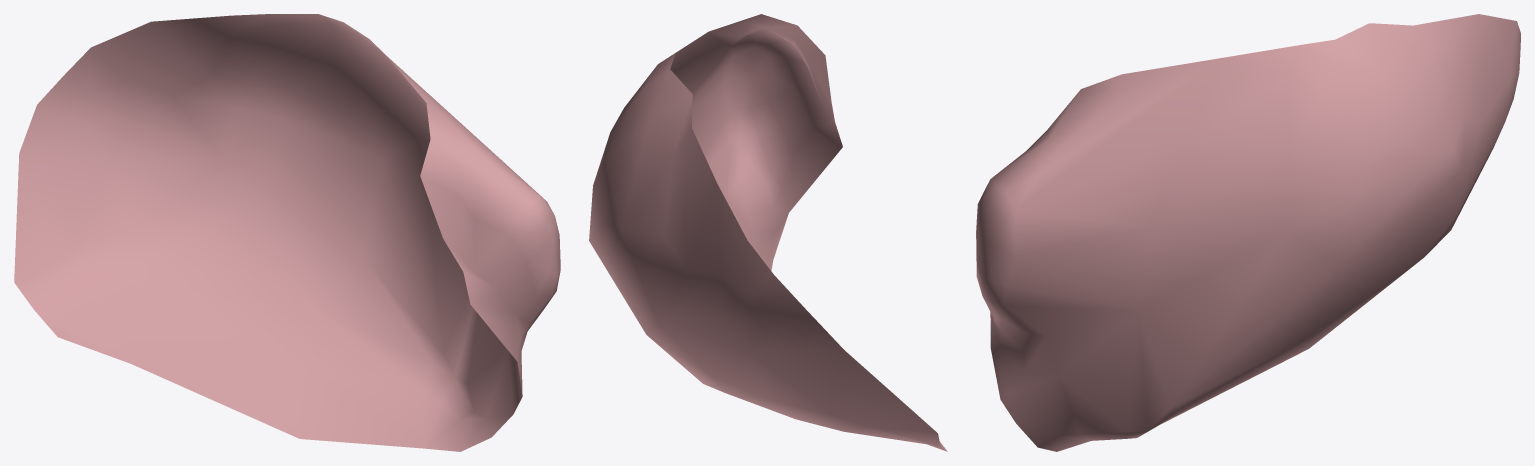
3 renders of one model, left to right at view 1: azimuth 30°, elevation 25°; view 2: azimuth 150°, elevation 25°; view 3: azimuth 270°, elevation 25°, orthographic. The views are drawn at different scales.
Visible parts, largest first — view 1: ZA_e6692fa31fc48c5c; view 2: ZA_e6692fa31fc48c5c; view 3: ZA_e6692fa31fc48c5c.
Part boxes in pixels (x1,y1,x2,y2): ZA_e6692fa31fc48c5c: (14, 14, 560, 451); ZA_e6692fa31fc48c5c: (589, 14, 947, 451); ZA_e6692fa31fc48c5c: (976, 14, 1520, 451).
Size of the model in its own units: 0.0128 by 0.0119 by 0.0145.
